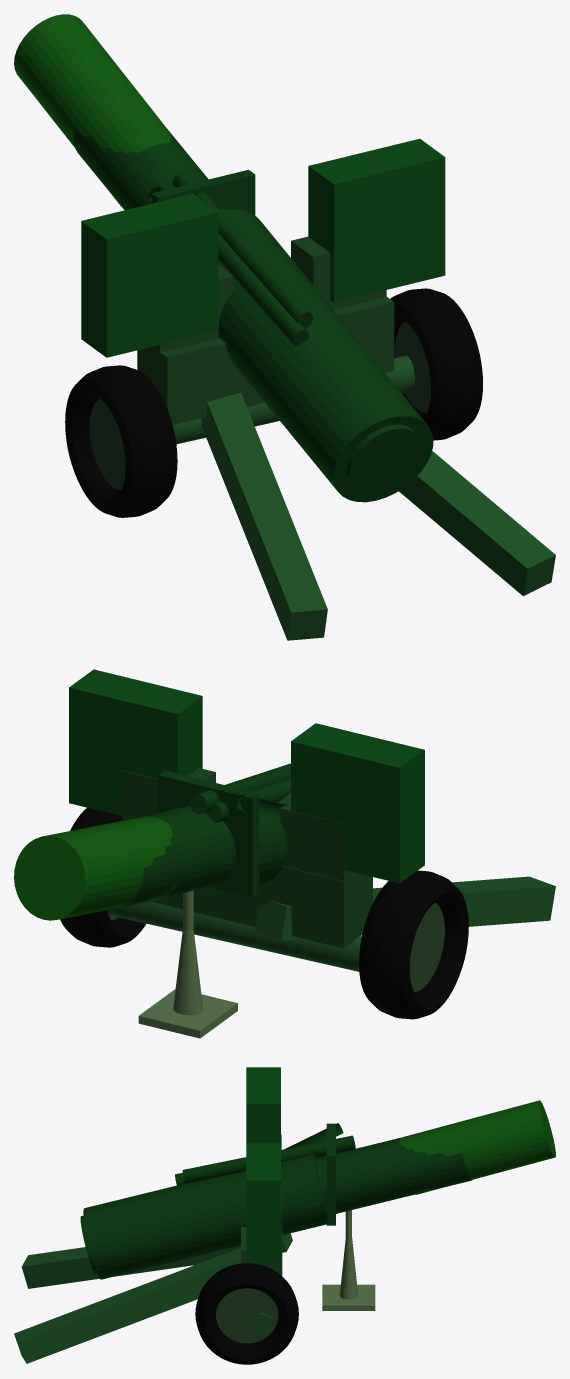
File: v3d-haubitze.glb
3 renders of one model, top to bottom at view 1: azimuth 30°, elevation 25°; view 2: azimuth 150°, elevation 25°; view 3: azimuth 270°, elevation 25°, orthographic. The views are drawn at different scales.
Parts seen in each view (by area): view 1: rumpf; view 2: rumpf; view 3: rumpf.
Part boxes in pixels (x1=…): rumpf: x1=14, y1=14, x2=555, y2=640; rumpf: x1=14, y1=669, x2=555, y2=1038; rumpf: x1=14, y1=1067, x2=555, y2=1364.
Size of the model in its own units: 3.83 by 3.31 by 7.3.
1 material, 1 textured.
